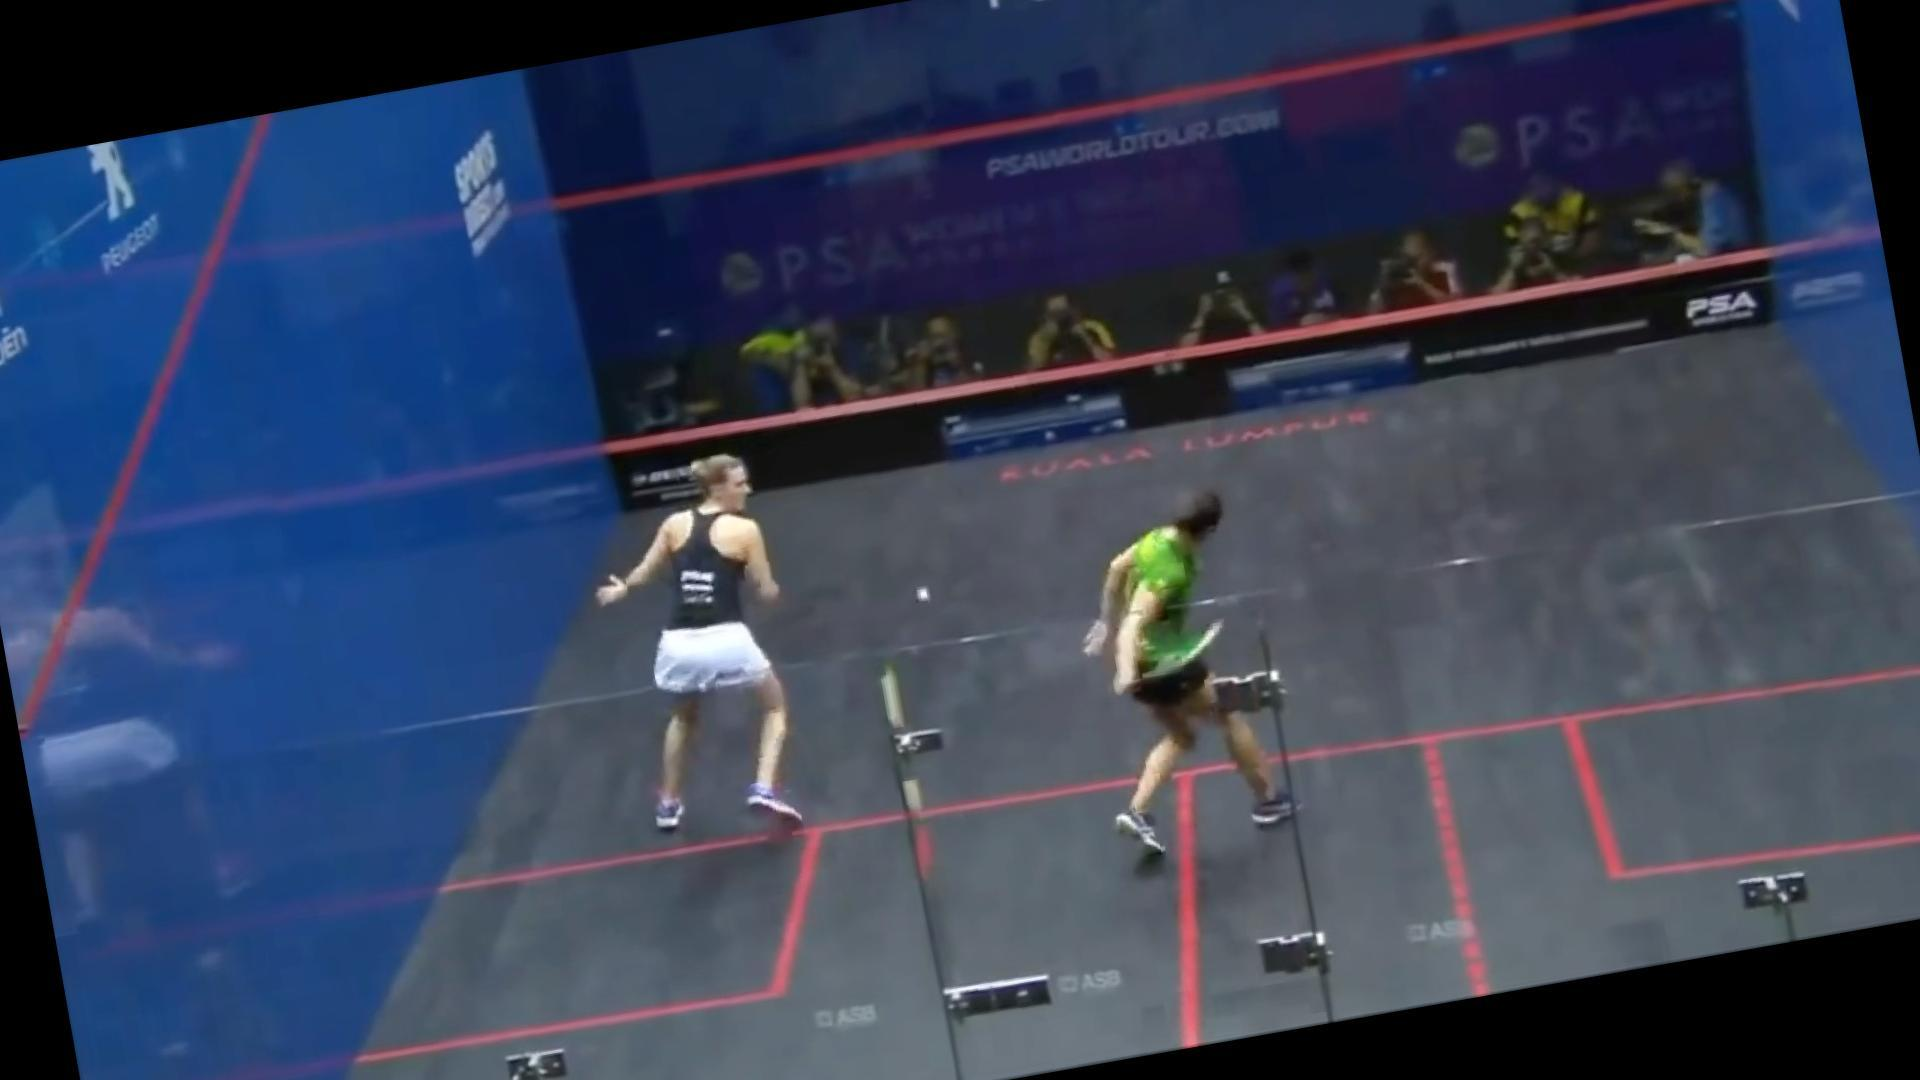Squash-Ball: (906, 572, 943, 620)
